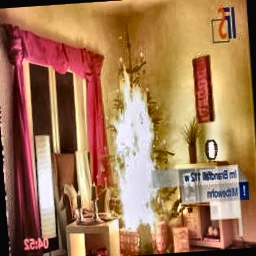fire: (100, 72, 166, 236)
